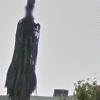Statue: (7, 2, 46, 100)
